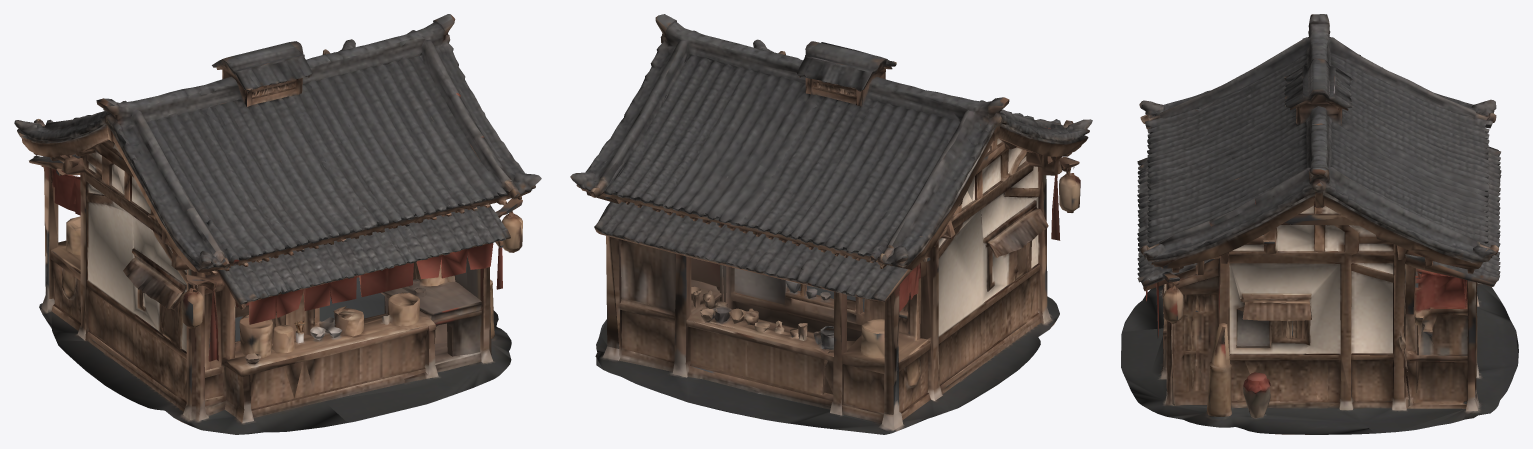
File: 07_Steamed_Food_Shop_LOD1.fbx
3 renders of one model, left to right at view 1: azimuth 30°, elevation 25°; view 2: azimuth 150°, elevation 25°; view 3: azimuth 270°, elevation 25°, orthographic. The views are drawn at different scales.
Visible parts, largest first — view 1: 07_Steamed_Food_Shop_L1; view 2: 07_Steamed_Food_Shop_L1; view 3: 07_Steamed_Food_Shop_L1.
Part boxes in pixels (x1,y1,x2,y2): 07_Steamed_Food_Shop_L1: (14,14,541,434); 07_Steamed_Food_Shop_L1: (570,14,1092,434); 07_Steamed_Food_Shop_L1: (1121,14,1518,434).
Size of the model in its own units: 7.39 by 5.5 by 7.42.
